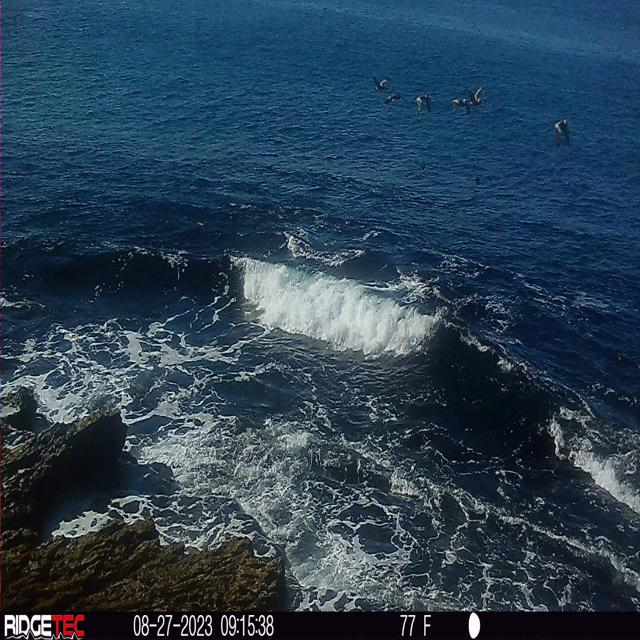bird: (554, 118, 570, 149)
